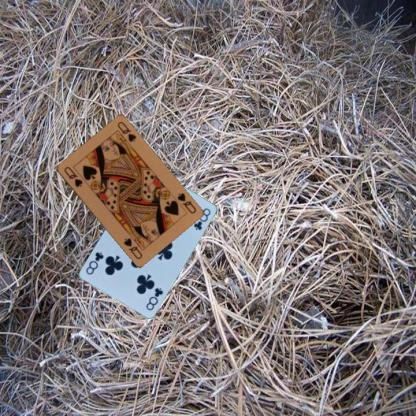8c: (143, 285, 164, 311)
Qs: (61, 164, 84, 188), (175, 190, 197, 215)
